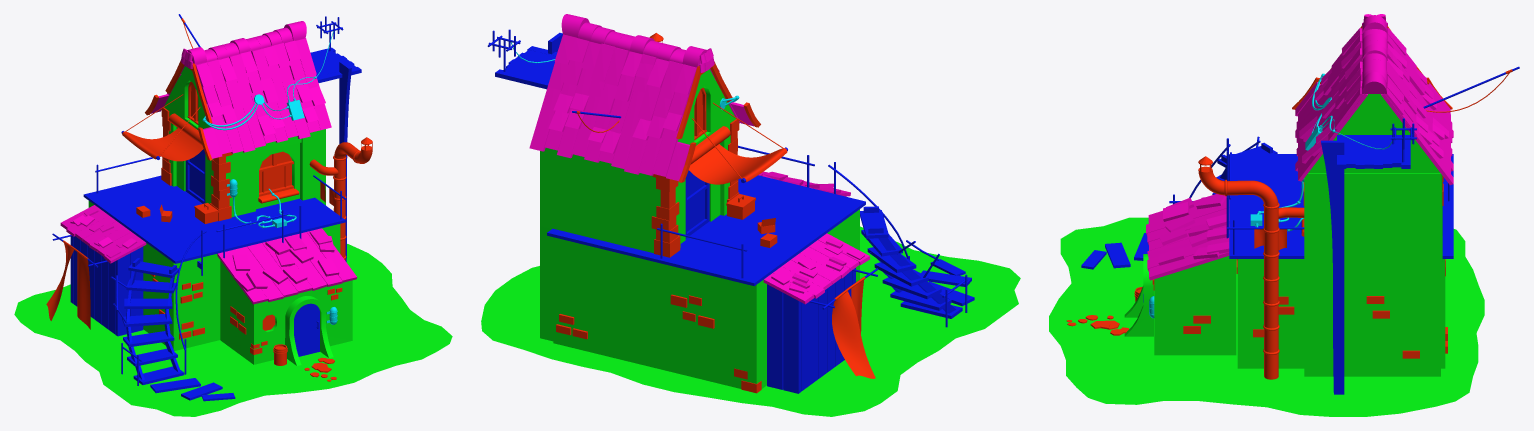
Rendered from diorama low 1 1.fbx.
The picture shows the model from 3 angles, left to right: view 1: azimuth 30°, elevation 25°; view 2: azimuth 150°, elevation 25°; view 3: azimuth 270°, elevation 25°; orthographic projection. The views are drawn at different scales.
Visible parts, largest first — view 1: ESTRUCTURA, MADERAS, TEJAS, DETALLES, CABLEADO; view 2: ESTRUCTURA, MADERAS, TEJAS, DETALLES; view 3: ESTRUCTURA, TEJAS, MADERAS, DETALLES, CABLEADO.
Boxes of the visible parts, x1,y1,x2,y2 form: ESTRUCTURA: (14, 66, 452, 416); MADERAS: (52, 14, 361, 401); TEJAS: (60, 21, 357, 304); DETALLES: (46, 18, 372, 381); CABLEADO: (202, 31, 337, 324); ESTRUCTURA: (481, 69, 1020, 416); MADERAS: (487, 29, 974, 393); TEJAS: (529, 14, 870, 304); DETALLES: (556, 33, 875, 393); ESTRUCTURA: (1049, 94, 1484, 416); TEJAS: (1146, 14, 1453, 280); MADERAS: (1081, 66, 1519, 394); DETALLES: (1066, 26, 1512, 379); CABLEADO: (1149, 73, 1392, 318).
Size of the model in its own units: 443 by 316 by 442.
